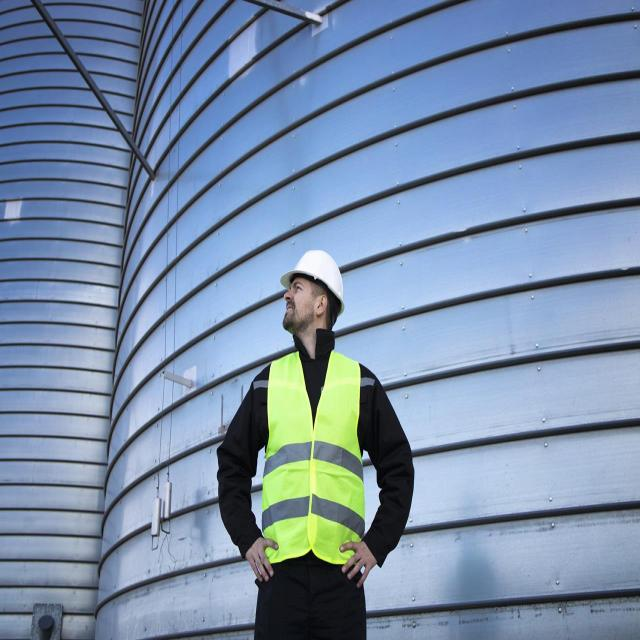helmet: (274, 233, 354, 298)
no-goggles: (283, 281, 316, 303)
vest: (256, 331, 370, 585)
